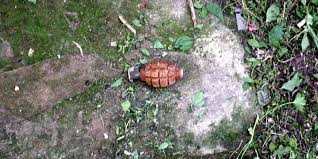e1: (129, 60, 184, 86)
